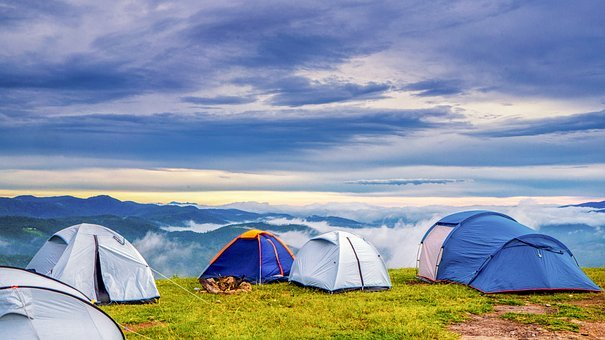field: (141, 283, 605, 339)
sky: (5, 3, 605, 205)
